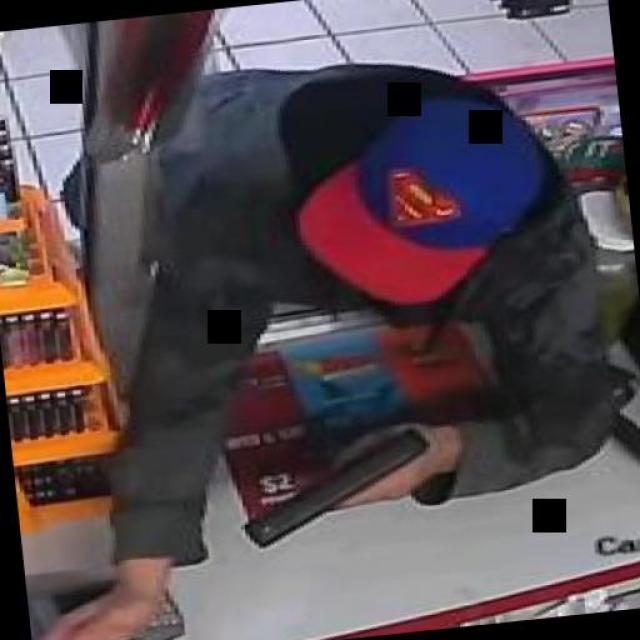gun: (228, 420, 444, 554)
